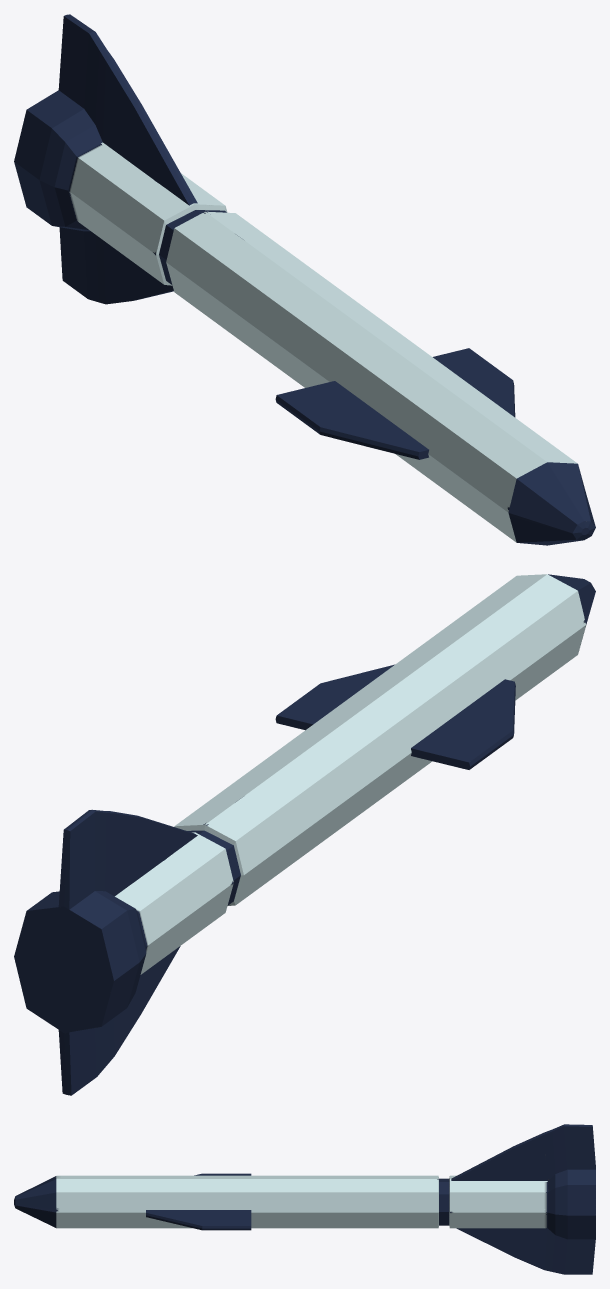
Rendered from missile.fbx.
The picture shows the model from 3 angles, top to bottom: view 1: azimuth 30°, elevation 25°; view 2: azimuth 150°, elevation 25°; view 3: azimuth 270°, elevation 25°; orthographic projection. The views are drawn at different scales.
Visible parts, largest first — view 1: missile; view 2: missile; view 3: missile.
Boxes of the visible parts, <box> form: missile: <box>14,14,595,545</box>; missile: <box>14,574,595,1095</box>; missile: <box>14,1124,595,1274</box>.
Bounding box in the file's own units: 55.66 × 72.86 × 258.
